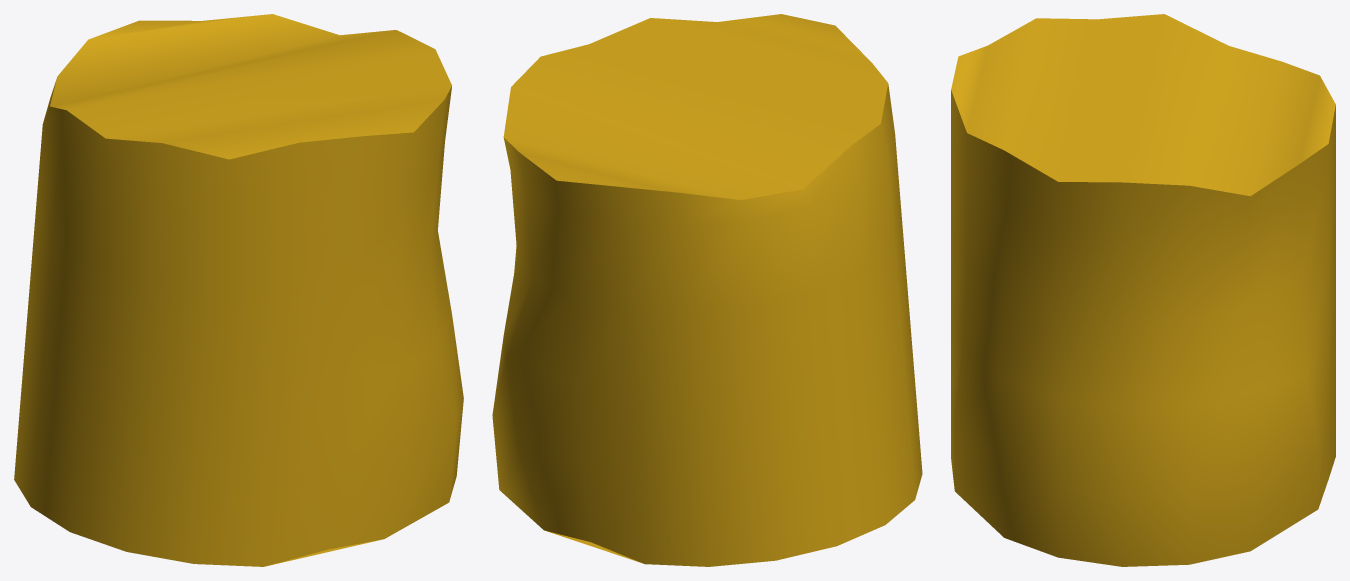
File: Botte de foin#4.FBX
3 views of the same model, side by side, from view 1: azimuth 30°, elevation 25°; view 2: azimuth 150°, elevation 25°; view 3: azimuth 270°, elevation 25° (orthographic). The views are drawn at different scales.
Visible parts, largest first — view 1: Cylinder001; view 2: Cylinder001; view 3: Cylinder001.
Boxes of the visible parts, x1,y1,x2,y2 form: Cylinder001: [14, 14, 463, 566]; Cylinder001: [492, 14, 922, 566]; Cylinder001: [951, 14, 1335, 566].
Size of the model in its own units: 59.46 by 61.2 by 52.7.
